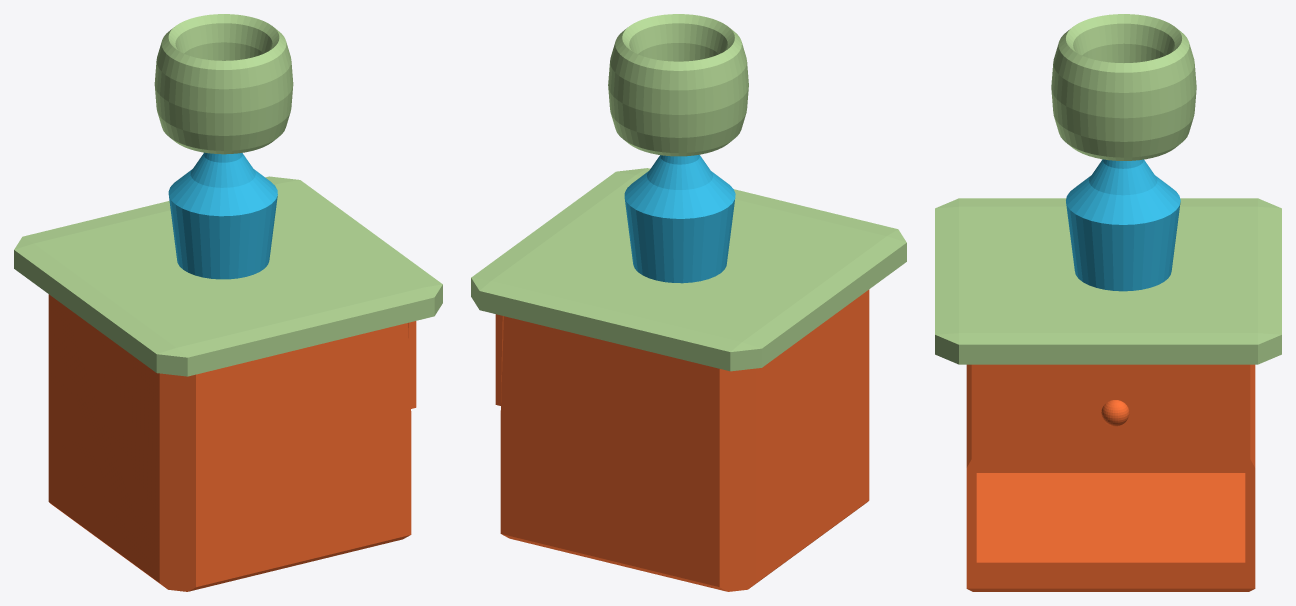
Rendered from Mesita y Lampara.FBX.
3 renders of one model, left to right at view 1: azimuth 30°, elevation 25°; view 2: azimuth 150°, elevation 25°; view 3: azimuth 270°, elevation 25°, orthographic. The views are drawn at different scales.
Visible parts, largest first — view 1: Mesita Noche 2, Lampara; view 2: Mesita Noche 2, Lampara; view 3: Mesita Noche 2, Lampara.
Boxes of the visible parts, <box> form: Mesita Noche 2: <box>14,176,442,591</box>; Lampara: <box>154,14,293,279</box>; Mesita Noche 2: <box>471,168,906,591</box>; Lampara: <box>608,14,748,283</box>; Mesita Noche 2: <box>935,198,1281,591</box>; Lampara: <box>1051,14,1196,291</box>.
Size of the model in its own units: 86.58 by 137 by 86.58.
